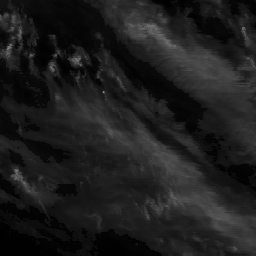Target: (101, 90, 105, 95)
